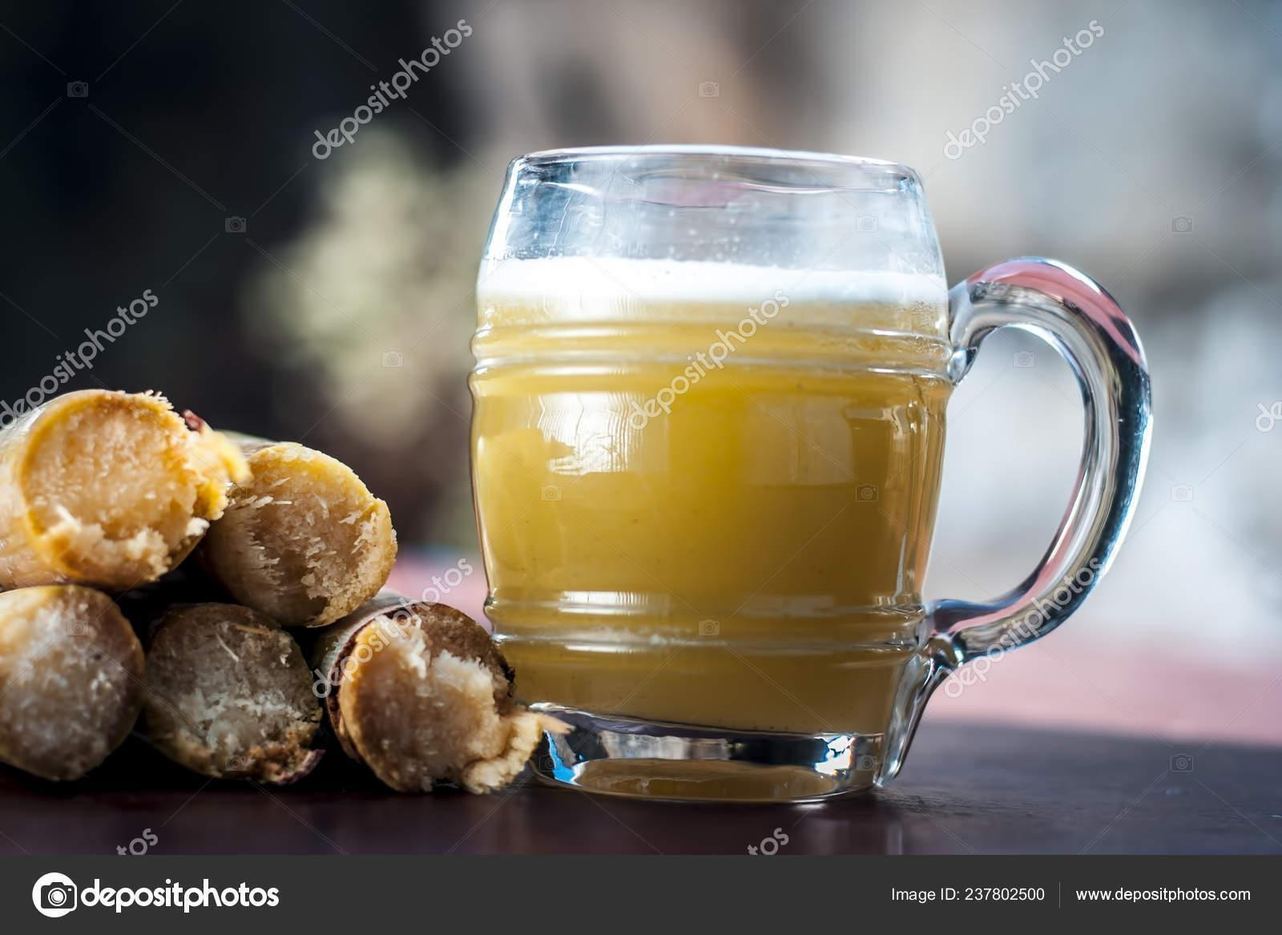glass-mug: (463, 141, 1155, 799)
